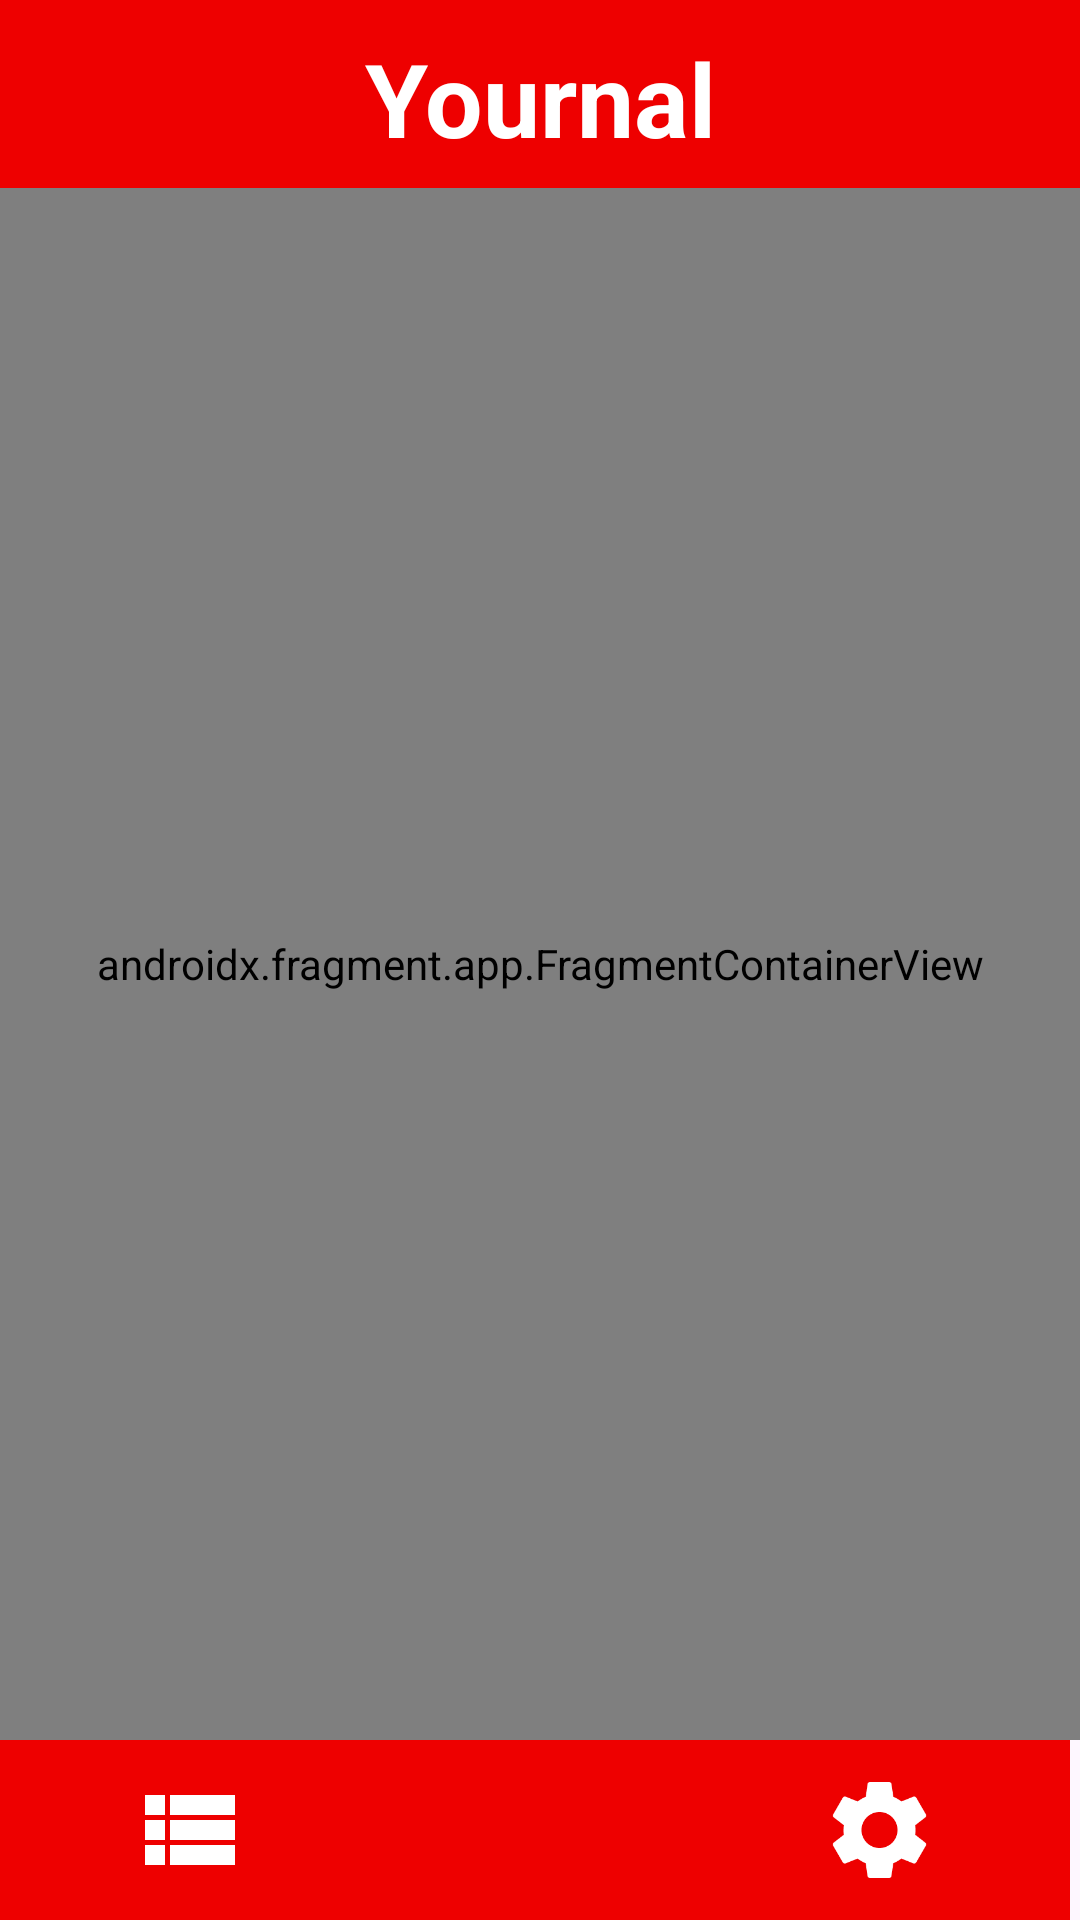

Where to tap for icons on this 1080x1920 app screen, as point (x, y):
List: point (190, 1830)
